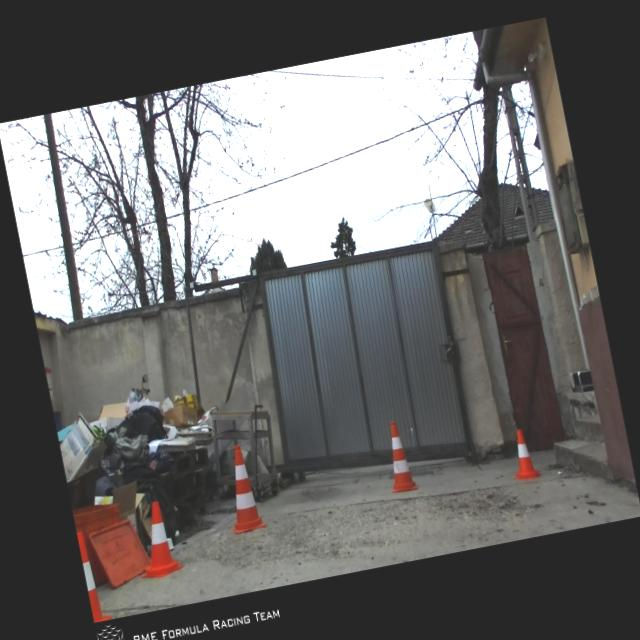large_orange_cone: (218, 443, 266, 535), (379, 420, 418, 494)
orange_cone: (128, 498, 186, 581), (76, 528, 112, 622), (505, 426, 544, 483)
